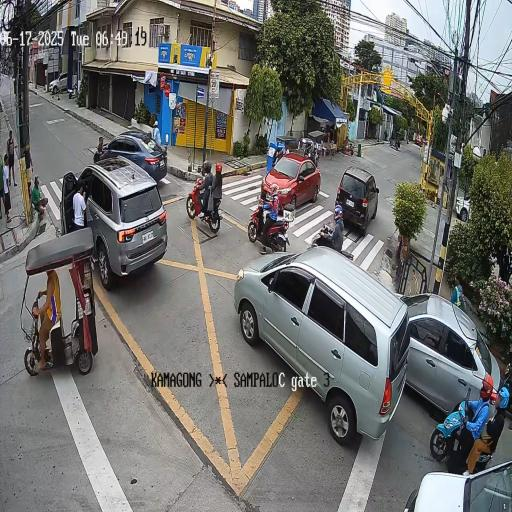Car: (217, 250, 403, 439), (46, 140, 180, 288), (389, 276, 506, 424), (397, 445, 512, 512), (332, 156, 389, 235), (93, 125, 172, 180), (250, 151, 328, 202)
Motor: (417, 356, 510, 476), (236, 178, 301, 251), (181, 160, 228, 242), (307, 205, 357, 256)
